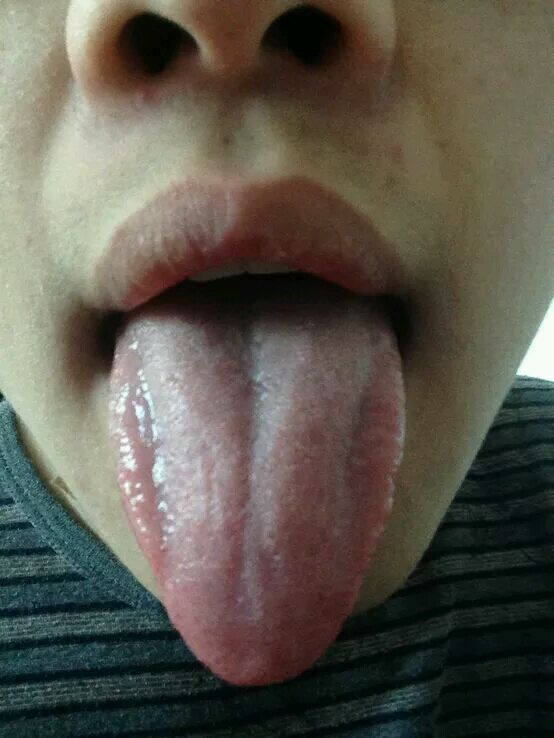baitaishe: (109, 290, 405, 684)
gandanao: (111, 325, 177, 610), (339, 337, 403, 600)
liewenshe: (232, 325, 255, 599)
